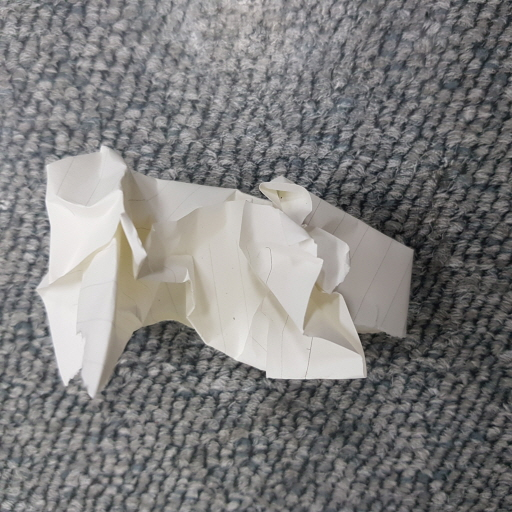Paper_3: (21, 122, 426, 421)
